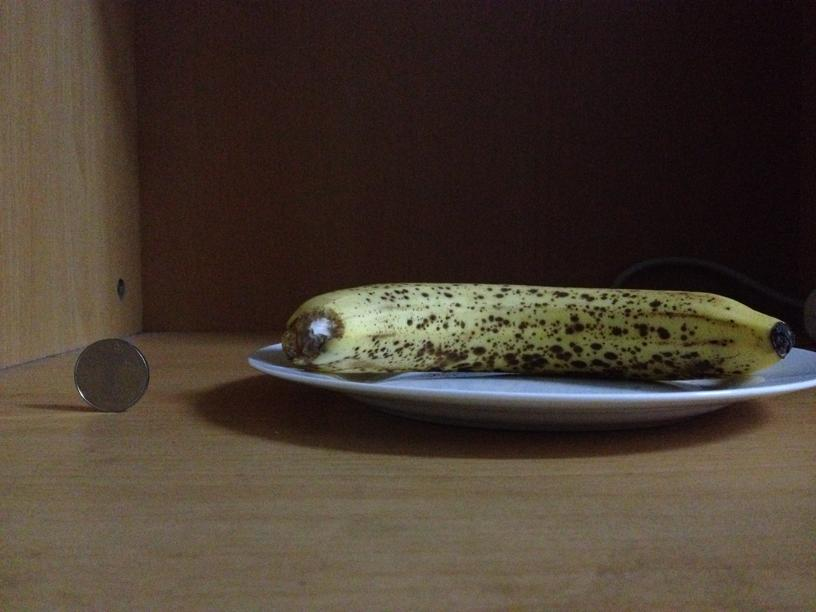banana: (286, 277, 783, 381)
coin: (68, 336, 154, 413)
